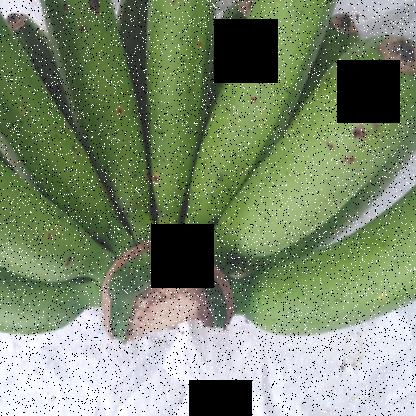unripe: (216, 34, 415, 257), (190, 1, 354, 184), (134, 1, 230, 209)
